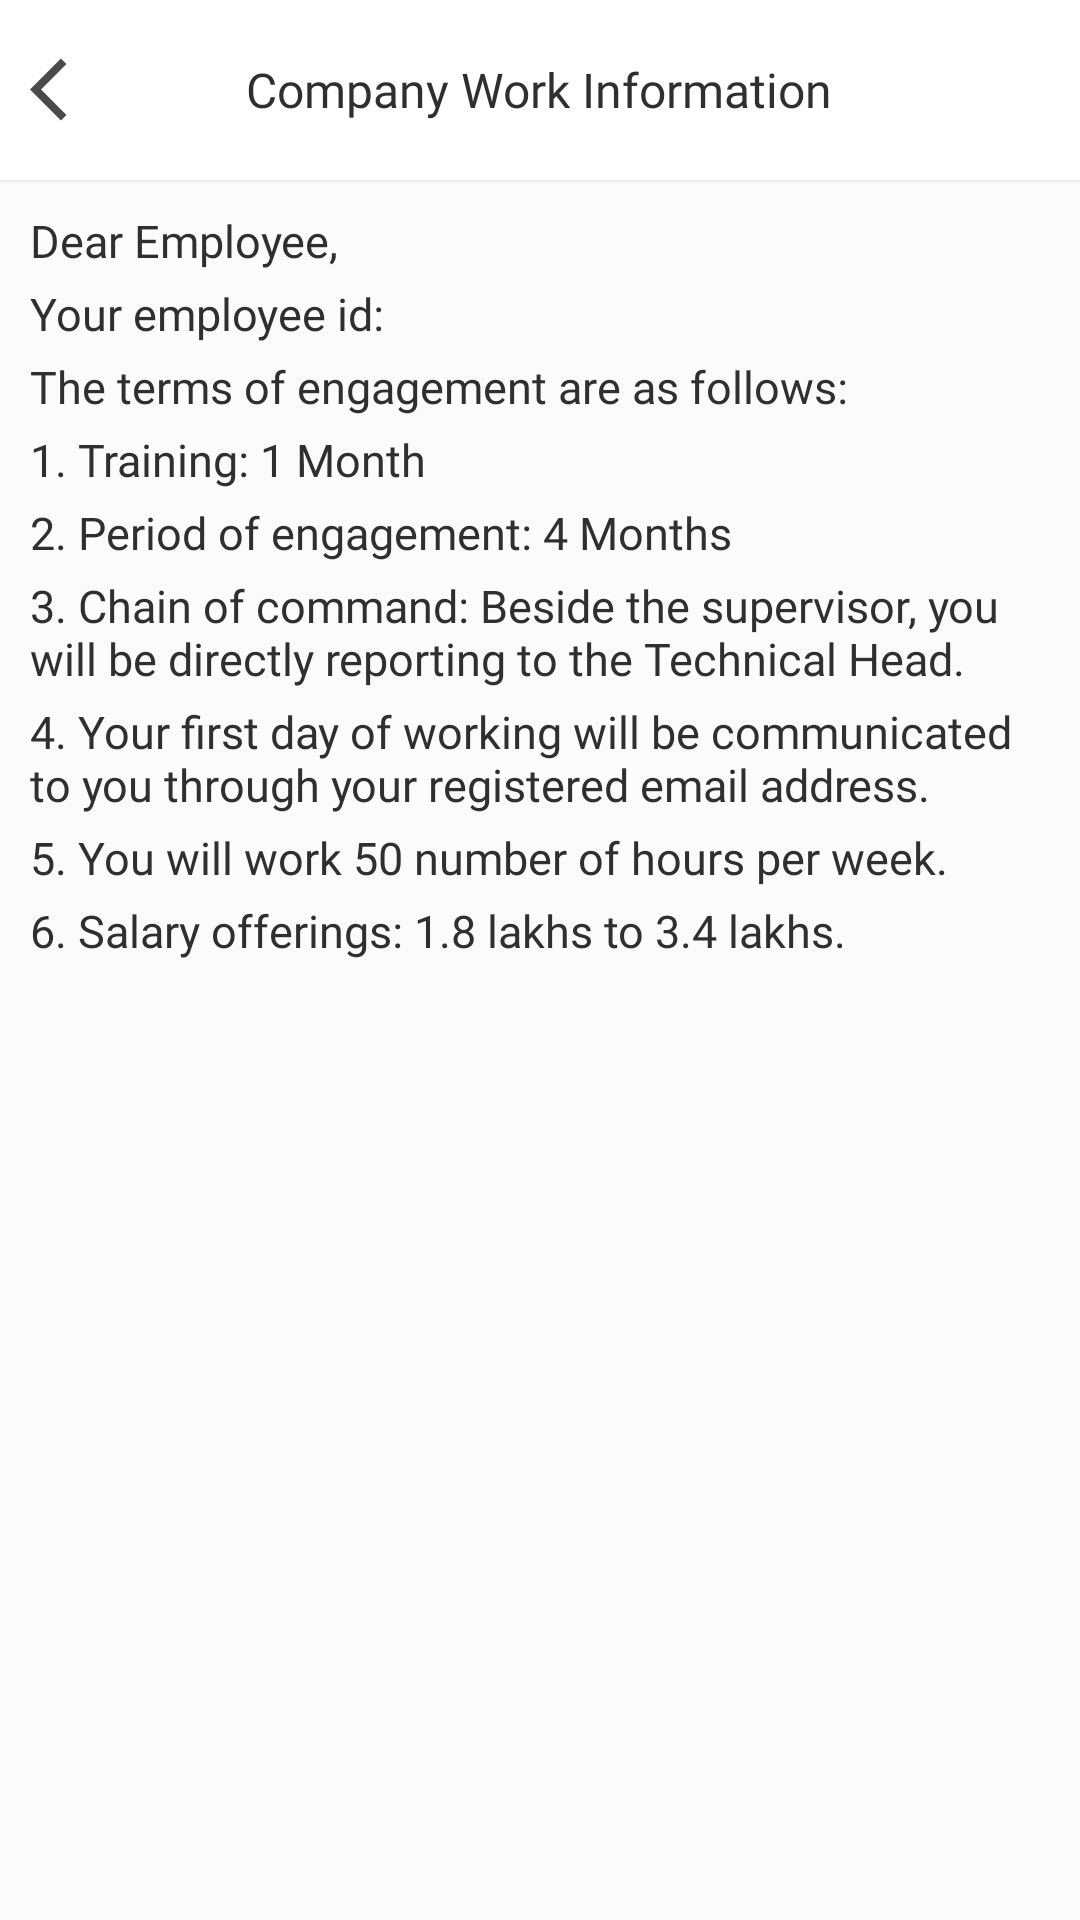

Locate icon controls on the screen. Image size 1080 x 1920, boxes as (x1, y1, x2, y2).
arrow back: (30, 58, 66, 121)
